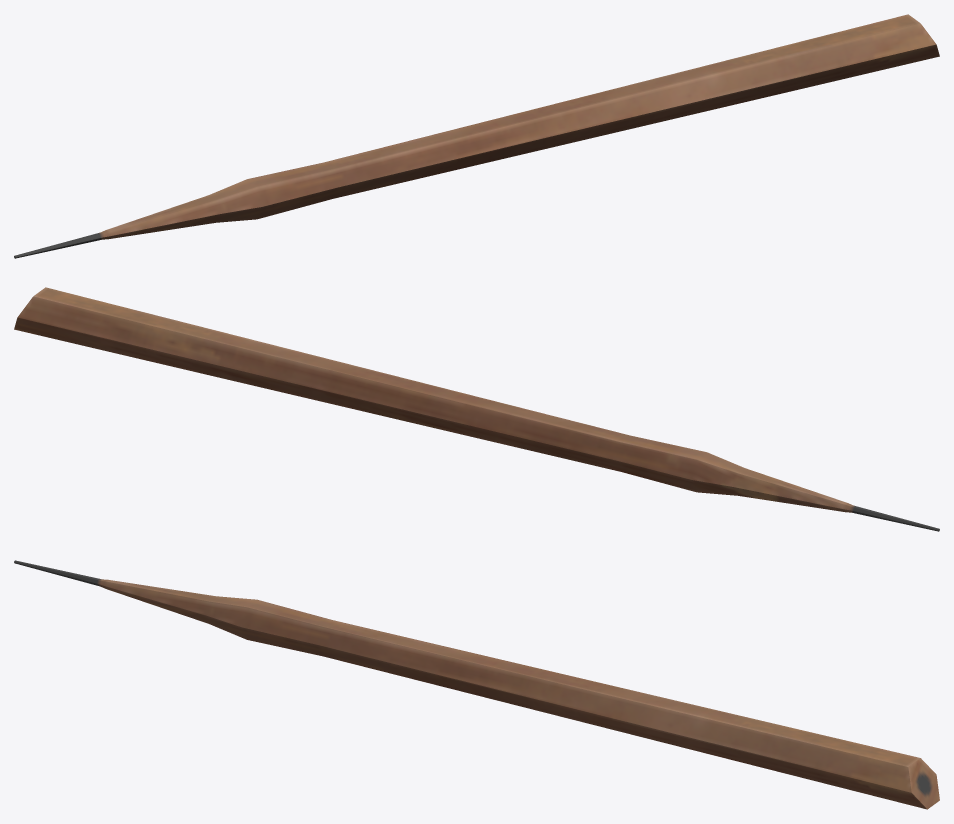
Rendered from SM_PaperPen_02.fbx.
3 views of the same model, one above another, from view 1: azimuth 30°, elevation 25°; view 2: azimuth 150°, elevation 25°; view 3: azimuth 330°, elevation 25° (orthographic).
Visible parts, largest first — view 1: SM_PaperPen_02_LOD0; view 2: SM_PaperPen_02_LOD0; view 3: SM_PaperPen_02_LOD0.
Part boxes in pixels (x1,y1,x2,y2): SM_PaperPen_02_LOD0: (14, 14, 939, 258); SM_PaperPen_02_LOD0: (14, 287, 939, 531); SM_PaperPen_02_LOD0: (14, 560, 939, 809).
Size of the model in its own units: 32.4 by 1.52 by 1.27.
Materials: 1 (1 with a texture image).
